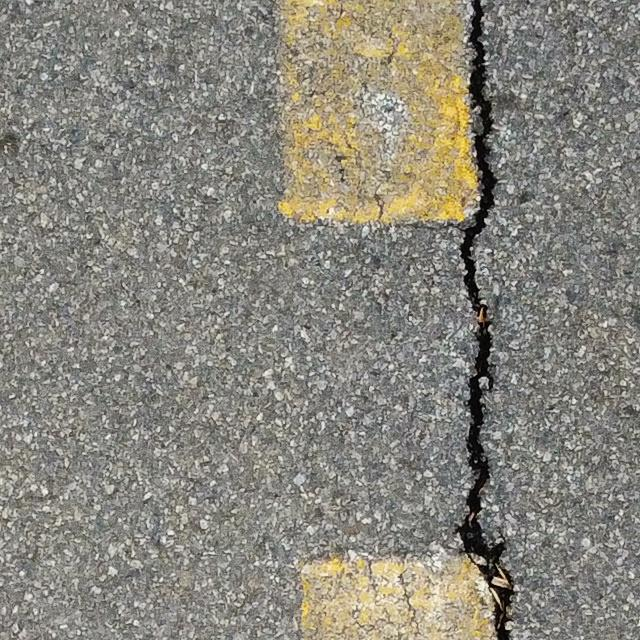LongitudinalCrack: (455, 1, 517, 638)
